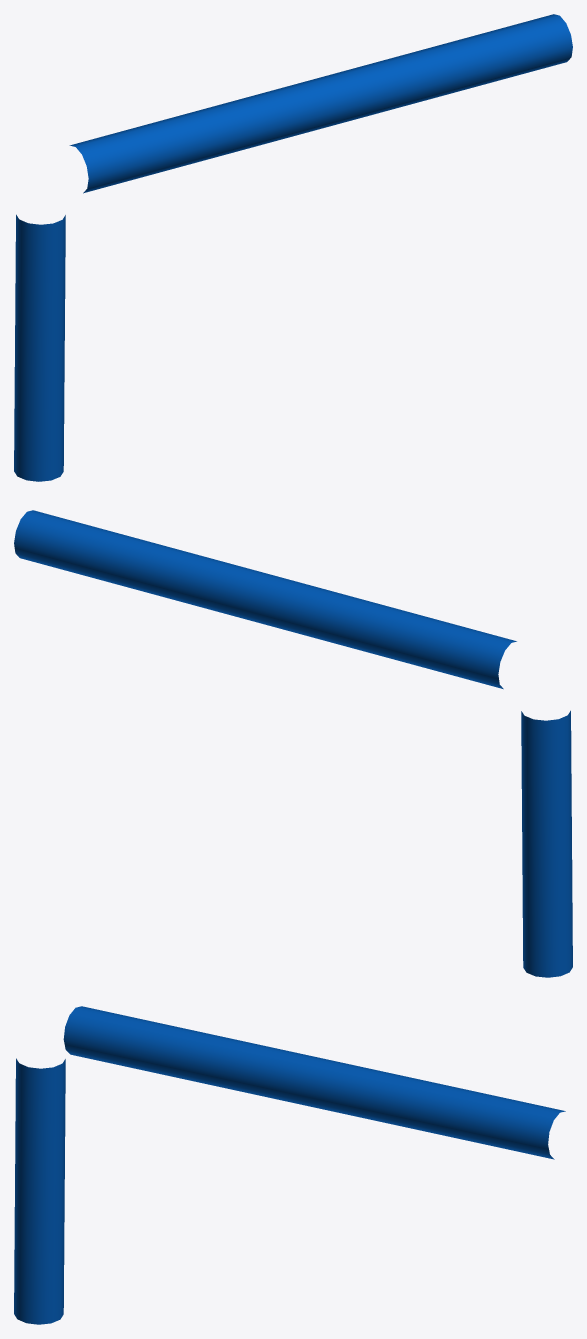
Rendered from 8613161c-9a89-4c61-9e2e-c735acdf9f03.glb.
3 renders of one model, top to bottom at view 1: azimuth 30°, elevation 25°; view 2: azimuth 150°, elevation 25°; view 3: azimuth 330°, elevation 25°, orthographic.
Visible parts, largest first — view 1: 1346, 1345; view 2: 1346, 1345; view 3: 1346, 1345.
Boxes of the visible parts, left/top/right/bottom form: 1346: left=69, top=14, right=572, bottom=193; 1345: left=14, top=214, right=65, bottom=481; 1346: left=14, top=510, right=516, bottom=689; 1345: left=521, top=710, right=572, bottom=977; 1346: left=63, top=1006, right=565, bottom=1159; 1345: left=14, top=1058, right=65, bottom=1324.
Size of the model in its own units: 3.56 by 2.05 by 0.2826.
